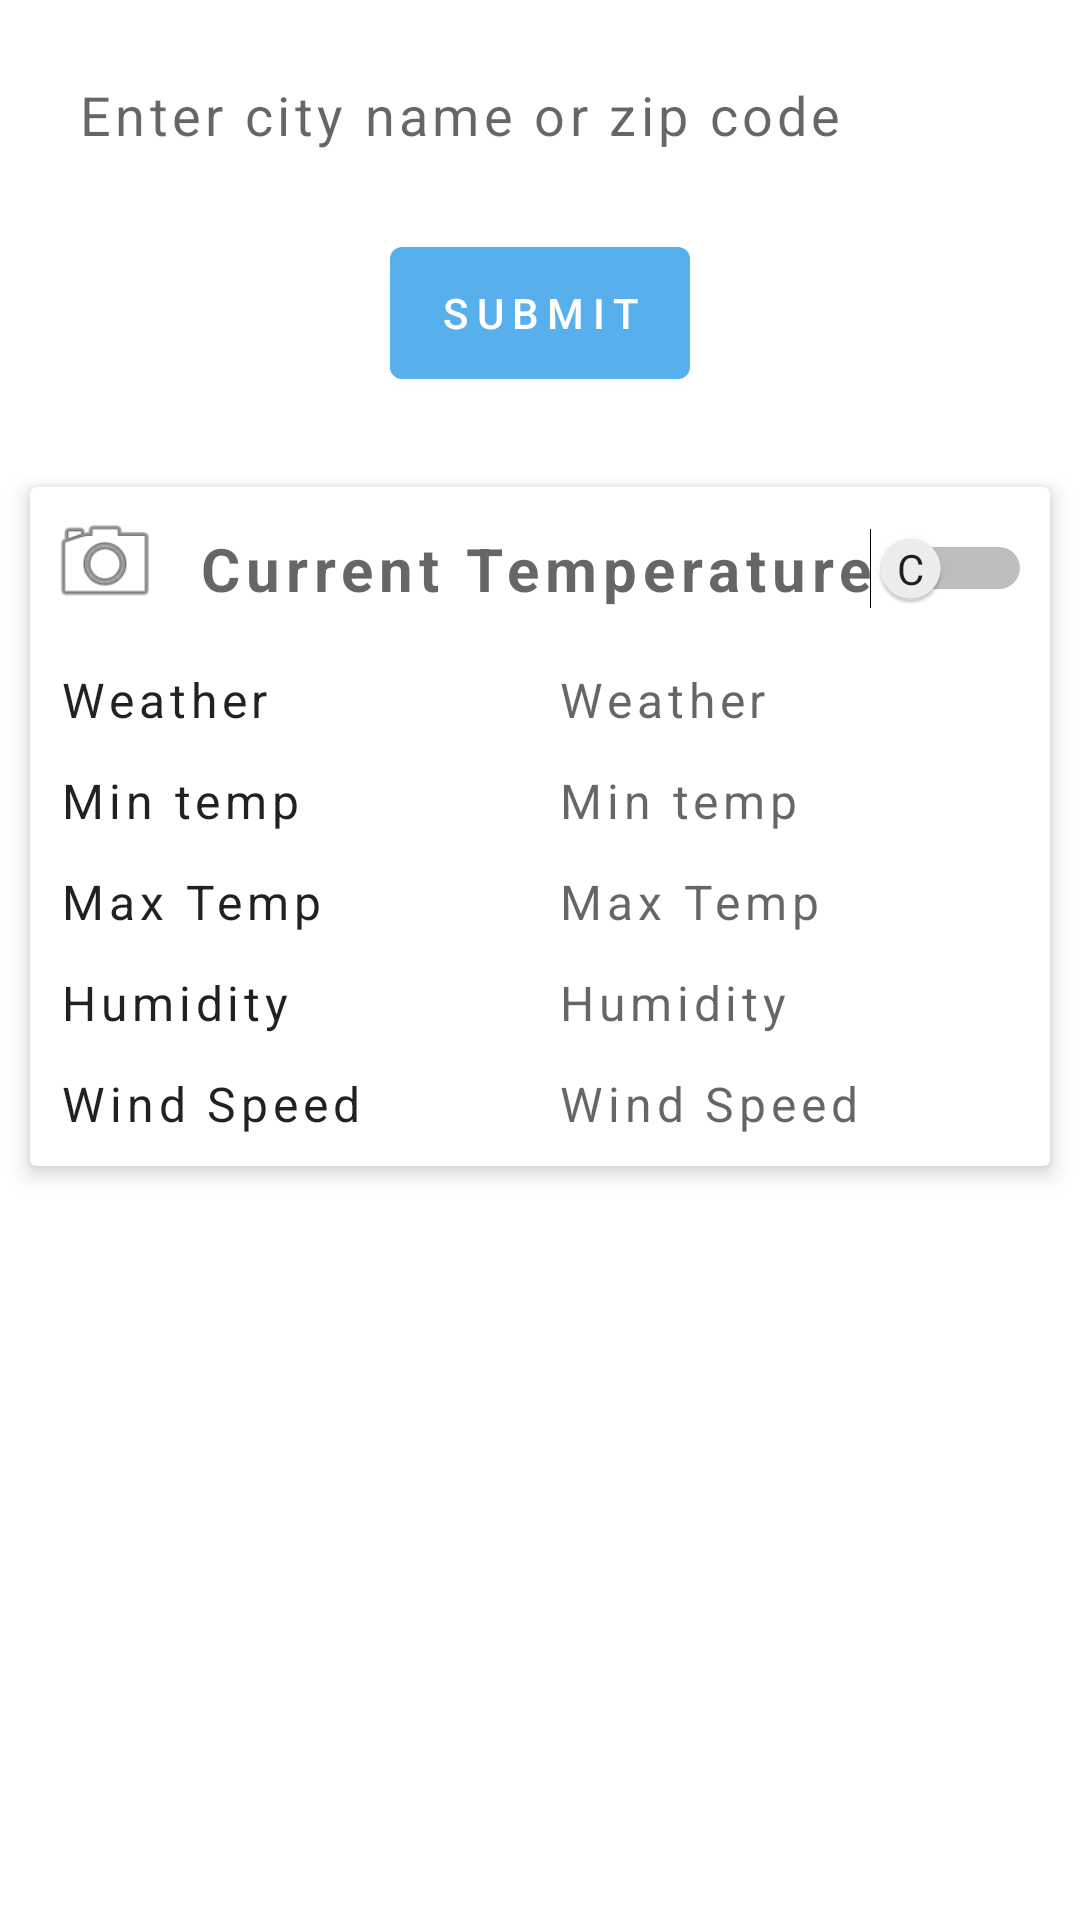

Point at icon controls on the screen. Image size 1080x1920, points as [x,y].
camera: [105,560]
